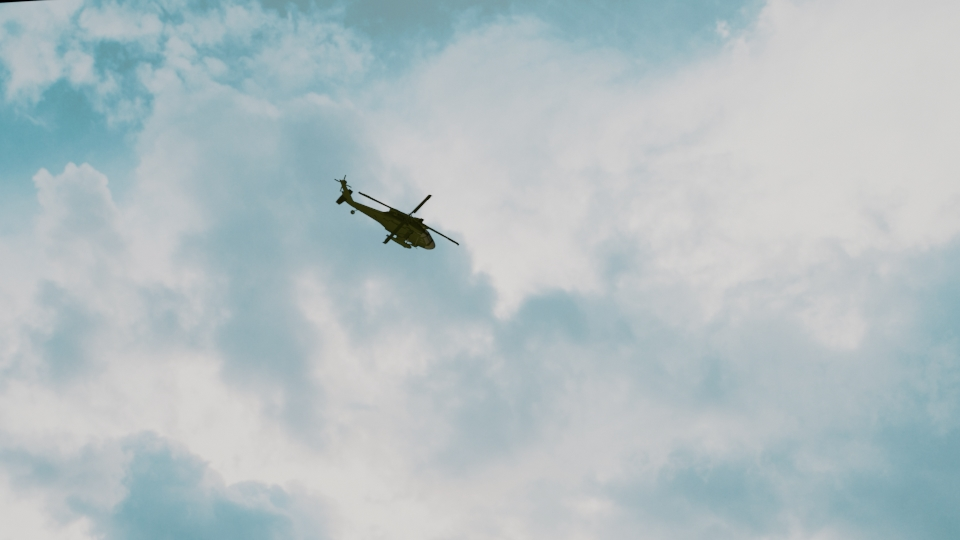heli: (335, 173, 444, 252)
